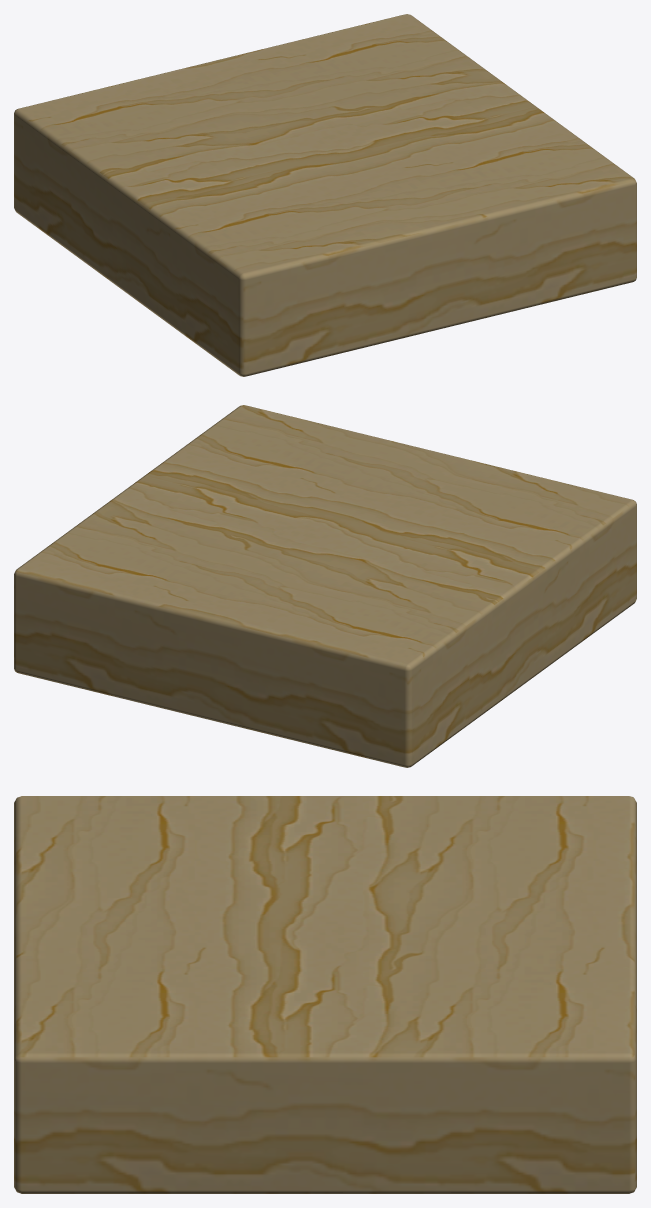
The model's file is SM_Platform_4m_01_B.glb.
The picture shows the model from 3 angles, top to bottom: view 1: azimuth 30°, elevation 25°; view 2: azimuth 150°, elevation 25°; view 3: azimuth 270°, elevation 25°; orthographic projection. The views are drawn at different scales.
Parts seen in each view (by area): view 1: SM_Platform_4m_01_B; view 2: SM_Platform_4m_01_B; view 3: SM_Platform_4m_01_B.
Part boxes in pixels (box(x1,y1,x2,y2)): SM_Platform_4m_01_B: box(14, 14, 636, 376); SM_Platform_4m_01_B: box(14, 405, 636, 767); SM_Platform_4m_01_B: box(14, 796, 636, 1193).
Bounding box in the file's own units: 4 × 1 × 4.
1 material, 1 textured.
